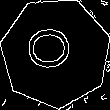O_E: (30, 30, 82, 76)
